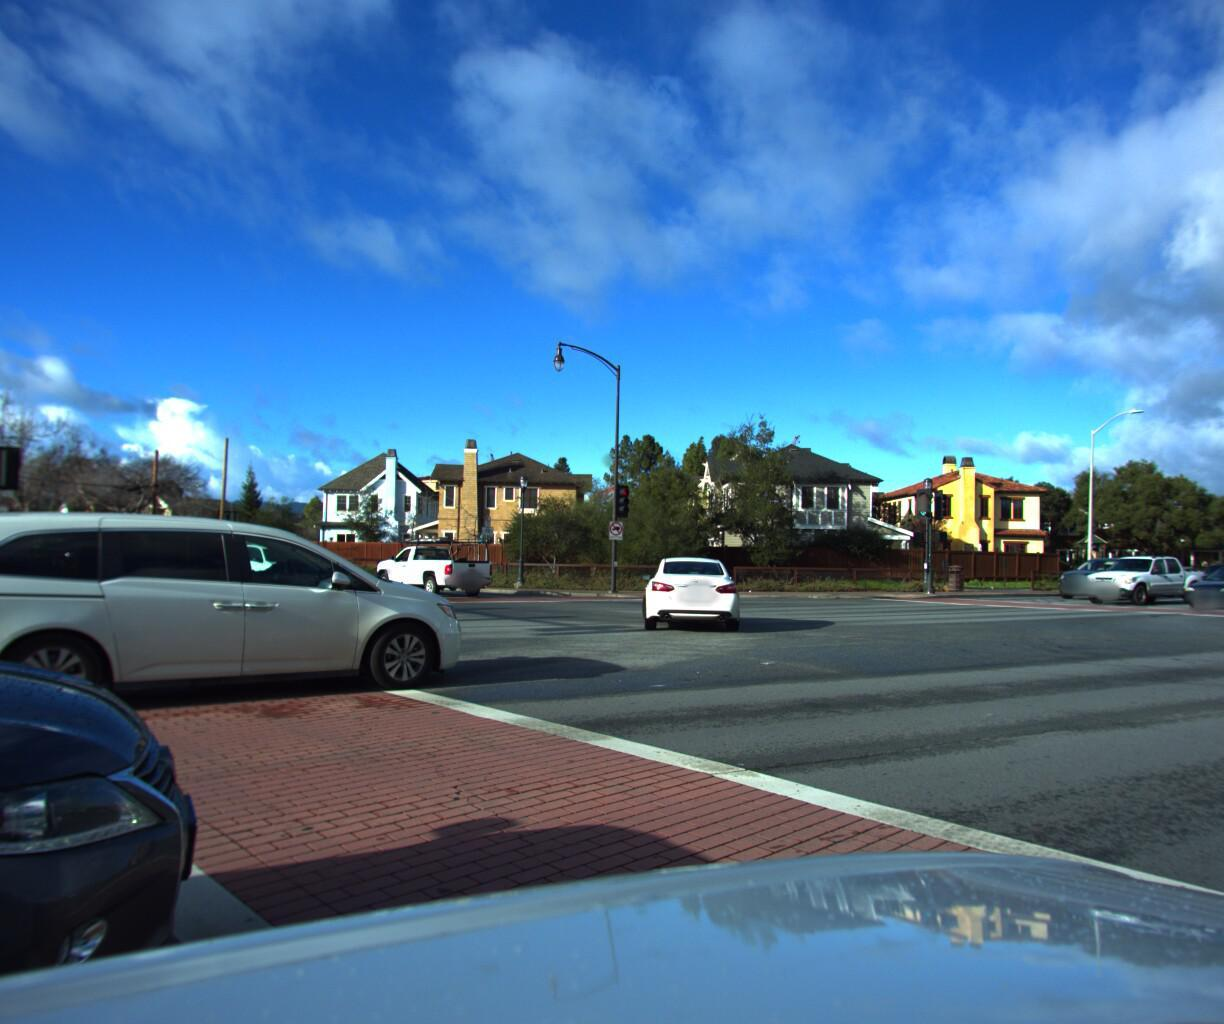car: (369, 529, 504, 597), (641, 554, 744, 635), (1069, 543, 1213, 597), (1041, 549, 1160, 593), (1168, 556, 1224, 605)
